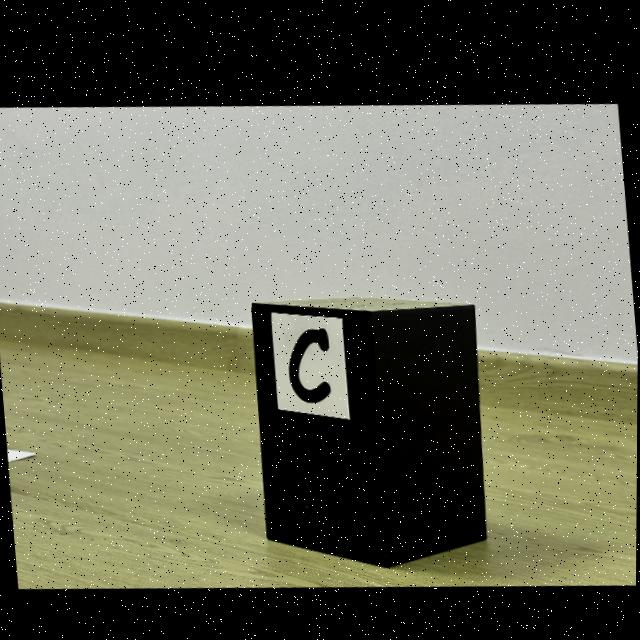C: (289, 323, 331, 397)
